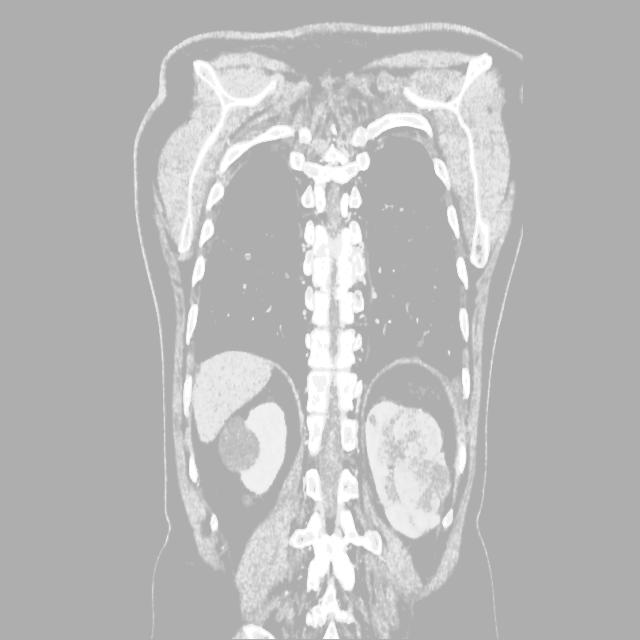TUMOR: (192, 322, 559, 559)
